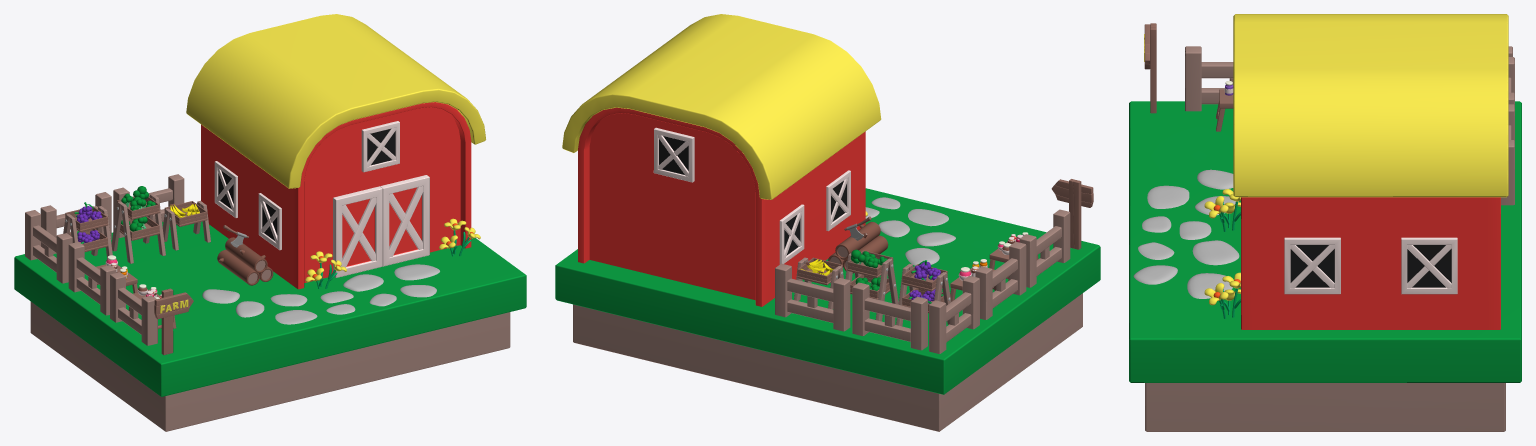
Rendered from Farm_Island_17.glb.
The picture shows the model from 3 angles, left to right: view 1: azimuth 30°, elevation 25°; view 2: azimuth 150°, elevation 25°; view 3: azimuth 270°, elevation 25°; orthographic projection. The views are drawn at different scales.
Visible parts, largest first — view 1: Farm_17_Barn_1, Farm_17_Base_1, Farm_17_Fence_1, Farm_17_Fence_4, Farm_17_Rack_1, Farm_17_Fence_3, Farm_17_Sign_Farm_1, Farm_17_Rack_3, Farm_17_Rack_2, Farm_17_Fence_2, Farm_17_Fence_5, Farm_17_Log_2 (+6 smaller); view 2: Farm_17_Barn_1, Farm_17_Base_1, Farm_17_Fence_5, Farm_17_Fence_2, Farm_17_Fence_4, Farm_17_Fence_3, Farm_17_Fence_1, Farm_17_Rack_1, Farm_17_Sign_Farm_1, Farm_17_Rack_3, Farm_17_Rack_2, Farm_17_Log_3 (+1 smaller); view 3: Farm_17_Barn_1, Farm_17_Base_1, Farm_17_Fence_1, Farm_17_Stone_1, Farm_17_Sign_Farm_1, Farm_17_Flowers_2, Farm_17_Stone_6, Farm_17_Flowers_1, Farm_17_Fence_2, Farm_17_Stone_2, Farm_17_Stone_4, Farm_17_Stone_10 (+4 smaller).
Part boxes in pixels (box(x1,y1,x2,y2)): Farm_17_Barn_1: box(186, 14, 485, 289); Farm_17_Base_1: box(14, 221, 526, 431); Farm_17_Fence_1: box(110, 272, 157, 345); Farm_17_Fence_4: box(25, 210, 72, 283); Farm_17_Rack_1: box(111, 193, 165, 263); Farm_17_Fence_3: box(68, 242, 116, 315); Farm_17_Sign_Farm_1: box(154, 288, 193, 355); Farm_17_Rack_3: box(63, 206, 112, 258); Farm_17_Rack_2: box(162, 200, 210, 250); Farm_17_Fence_2: box(113, 174, 184, 237); Farm_17_Fence_5: box(40, 192, 111, 254); Farm_17_Log_2: box(217, 250, 259, 285); Farm_17_Barn_1: box(562, 14, 881, 306); Farm_17_Base_1: box(555, 188, 1100, 431); Farm_17_Fence_5: box(852, 282, 927, 350); Farm_17_Fence_2: box(775, 263, 850, 331); Farm_17_Fence_4: box(929, 275, 979, 353); Farm_17_Fence_3: box(975, 241, 1026, 319); Farm_17_Fence_1: box(1019, 209, 1070, 287); Farm_17_Rack_1: box(845, 250, 898, 321); Farm_17_Sign_Farm_1: box(1051, 179, 1093, 249); Farm_17_Rack_3: box(896, 263, 951, 326); Farm_17_Rack_2: box(794, 257, 843, 309); Farm_17_Log_3: box(835, 221, 880, 259); Farm_17_Barn_1: box(1233, 14, 1508, 329); Farm_17_Base_1: box(1129, 101, 1521, 431); Farm_17_Fence_1: box(1185, 46, 1233, 111); Farm_17_Stone_1: box(1192, 240, 1239, 265); Farm_17_Sign_Farm_1: box(1144, 23, 1156, 113); Farm_17_Flowers_2: box(1204, 272, 1240, 318); Farm_17_Stone_6: box(1147, 185, 1189, 208); Farm_17_Flowers_1: box(1204, 189, 1240, 231); Farm_17_Fence_2: box(1501, 104, 1514, 205); Farm_17_Stone_2: box(1187, 273, 1232, 298); Farm_17_Stone_4: box(1133, 265, 1177, 284); Farm_17_Stone_10: box(1197, 169, 1233, 189).
Size of the model in its own units: 12.94 by 8.32 by 9.02.
Materials: 58 (58 with a texture image).
